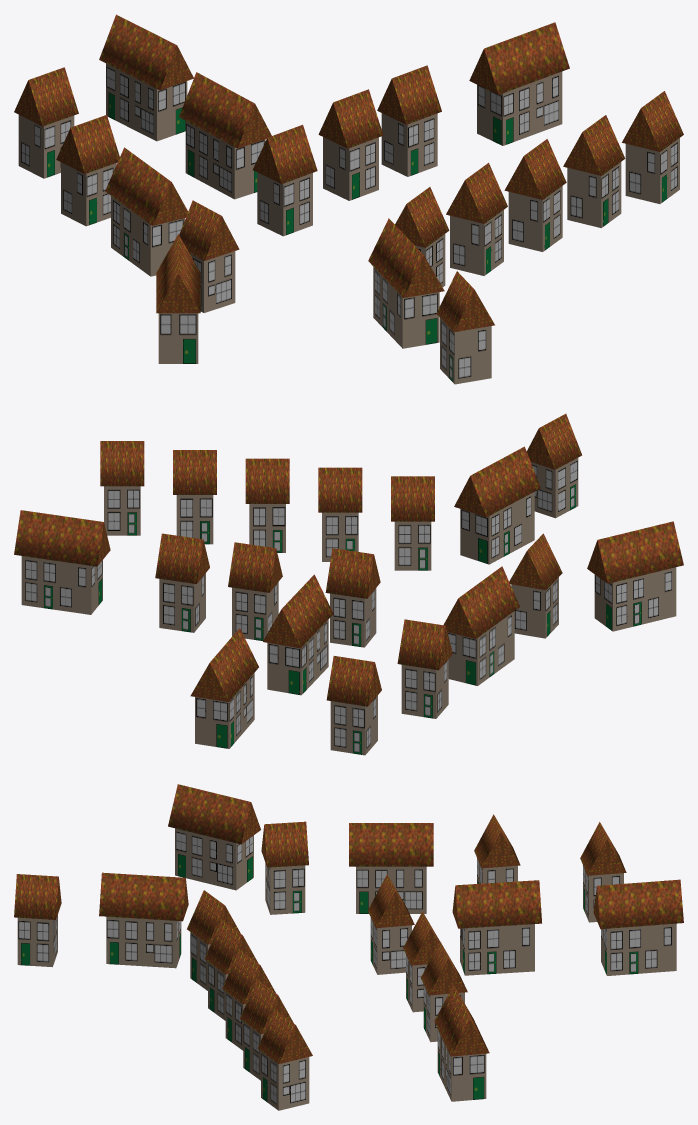
File: villageValley.glb
3 views of the same model, one above another, from view 1: azimuth 30°, elevation 25°; view 2: azimuth 150°, elevation 25°; view 3: azimuth 270°, elevation 25° (orthographic). The views are drawn at different scales.
Parts seen in each view (by area): view 1: box_merged (×2), house11, house13, house12, house14, house5, house6, house7, house0, house1, house2, house3 (+5 smaller); view 2: box_merged (×2), house11, house15, house14, house12, house13, house7, house8, house5, house6, house9, house4 (+5 smaller); view 3: box_merged (×2), house13, house14, house15, house12, house11, house0, house10, house9, house8, house2, house4 (+5 smaller).
Boxes of the visible parts, left/top/right/bottom form: box_merged (×2): left=105, top=124, right=317, bottom=276; house11: left=469, top=22, right=569, bottom=145; house13: left=99, top=14, right=193, bottom=141; house12: left=179, top=72, right=271, bottom=199; house14: left=368, top=218, right=444, bottom=348; house5: left=377, top=65, right=441, bottom=176; house6: left=318, top=89, right=383, bottom=200; house7: left=56, top=115, right=119, bottom=226; house0: left=622, top=91, right=683, bottom=203; house1: left=563, top=115, right=625, bottom=228; house2: left=504, top=139, right=566, bottom=251; house3: left=446, top=162, right=507, bottom=275; box_merged (×2): left=325, top=548, right=519, bottom=685; house11: left=14, top=510, right=110, bottom=614; house15: left=587, top=521, right=683, bottom=631; house14: left=454, top=446, right=540, bottom=564; house12: left=263, top=574, right=333, bottom=695; house13: left=190, top=628, right=258, bottom=748; house7: left=397, top=619, right=452, bottom=718; house8: left=326, top=656, right=381, bottom=755; house5: left=155, top=533, right=209, bottom=632; house6: left=228, top=542, right=282, bottom=640; house9: left=526, top=413, right=581, bottom=518; house4: left=391, top=476, right=434, bottom=570; box_merged (×2): left=349, top=823, right=433, bottom=974; house13: left=593, top=879, right=683, bottom=975; house14: left=99, top=872, right=188, bottom=968; house15: left=168, top=784, right=260, bottom=890; house12: left=452, top=880, right=541, bottom=975; house11: left=434, top=985, right=489, bottom=1101; house0: left=257, top=1009, right=312, bottom=1110; house10: left=261, top=821, right=308, bottom=914; house9: left=14, top=874, right=61, bottom=967; house8: left=580, top=822, right=626, bottom=922; house2: left=222, top=950, right=275, bottom=1050; house4: left=187, top=890, right=240, bottom=990.
Size of the model in its own units: 16.89 by 2.61 by 18.95.
Materials: 4 (4 with a texture image).
